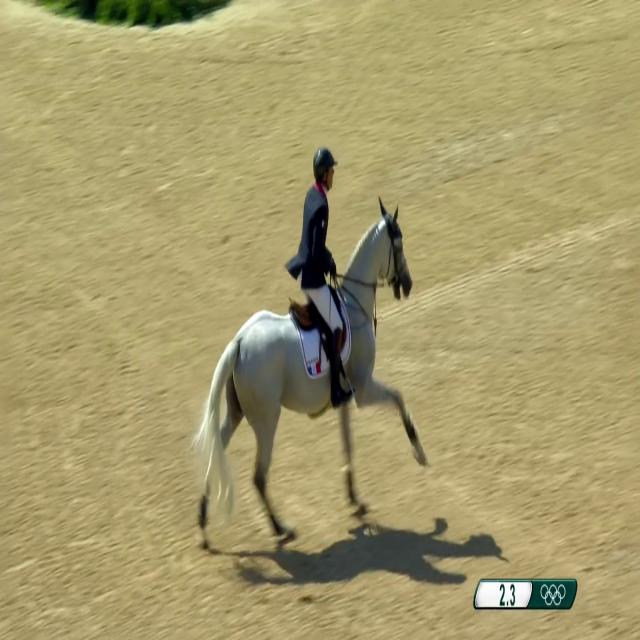Horse Rider: (290, 115, 352, 420)
Horse Running: (184, 193, 437, 560)
